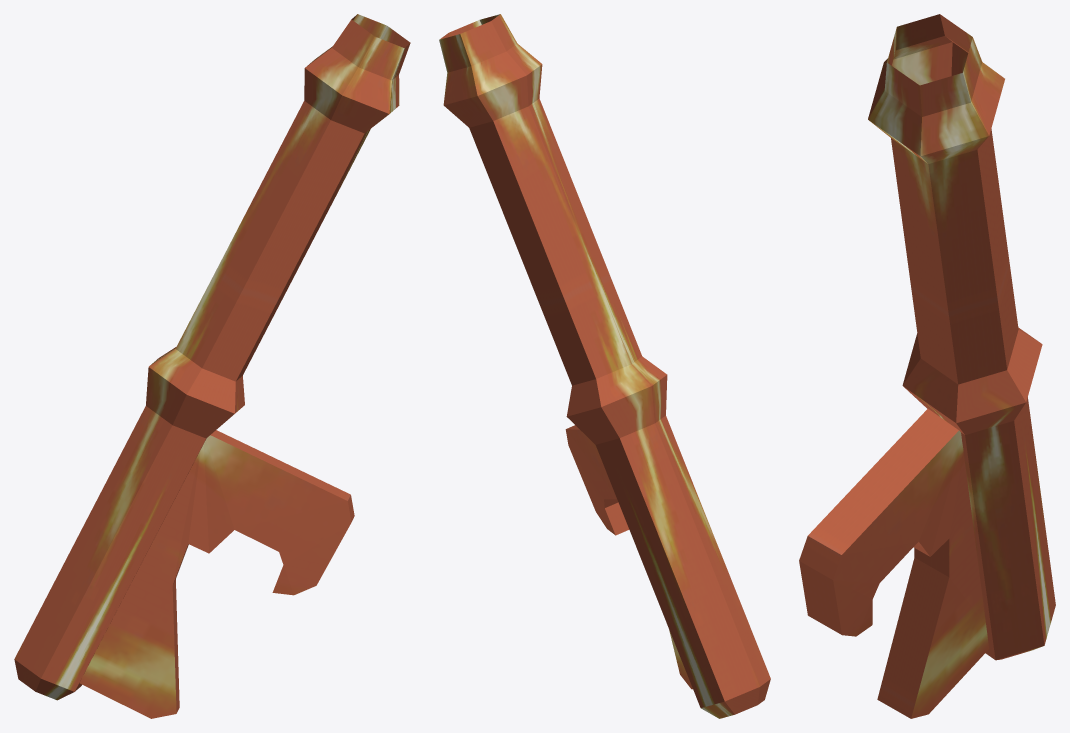
3 views of the same model, side by side, from view 1: azimuth 30°, elevation 25°; view 2: azimuth 150°, elevation 25°; view 3: azimuth 270°, elevation 25° (orthographic). The views are drawn at different scales.
Parts seen in each view (by area): view 1: Object01; view 2: Object01; view 3: Object01.
Boxes of the visible parts, left/top/right/bottom form: Object01: left=14, top=14, right=410, bottom=718; Object01: left=439, top=14, right=770, bottom=718; Object01: left=799, top=14, right=1055, bottom=718.
Size of the model in its own units: 10.08 by 4.85 by 17.24.
